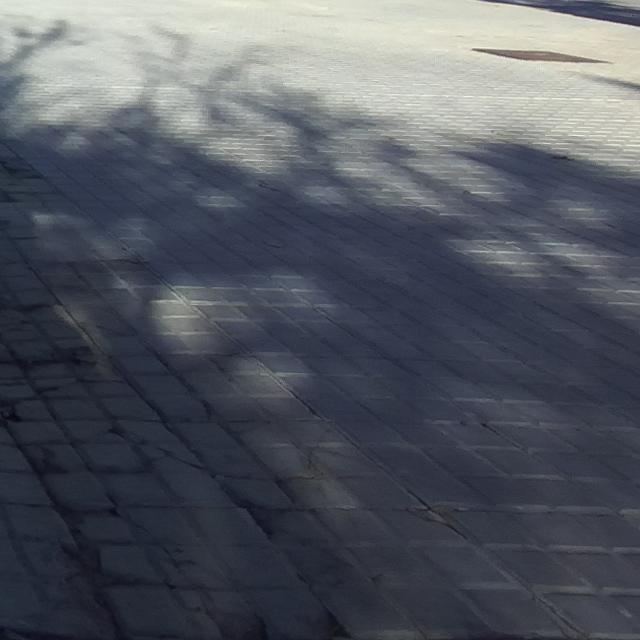calcada_quebrada: (119, 509, 193, 584), (126, 431, 205, 475), (39, 370, 125, 395)
